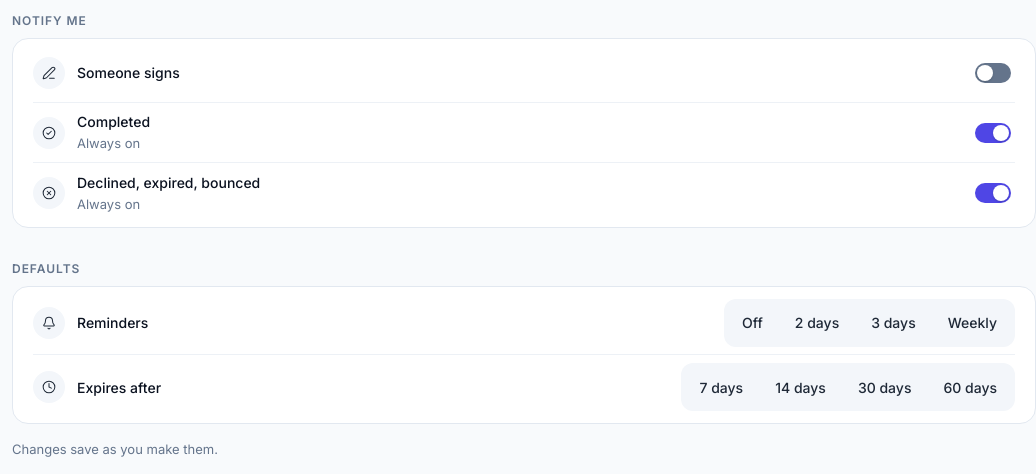
NotificationsSection › confirms a saved change
Expected: the message reads "Changes save as you make them.", [12,441,218,457]
Click the switch named "Someone signs" at (993, 72), box [975,62,1011,82]
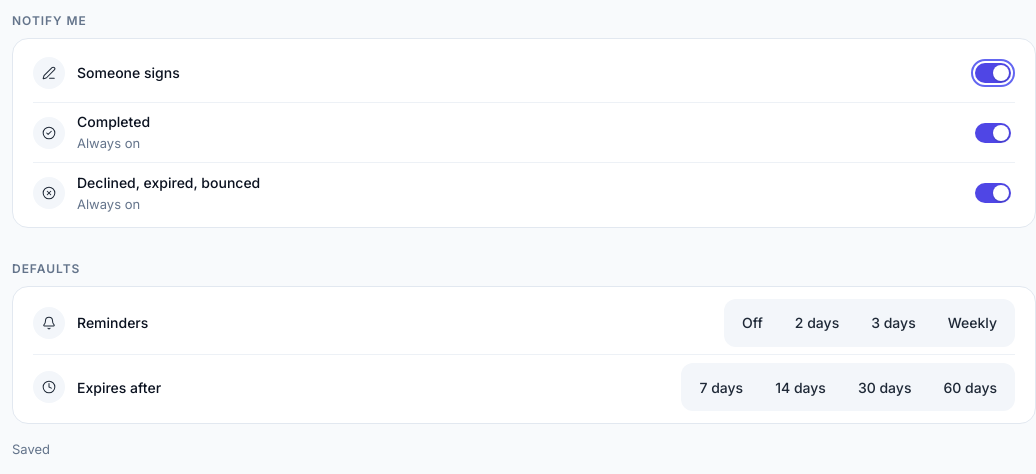
Now the message reads "Saved", box [12,441,50,457]
